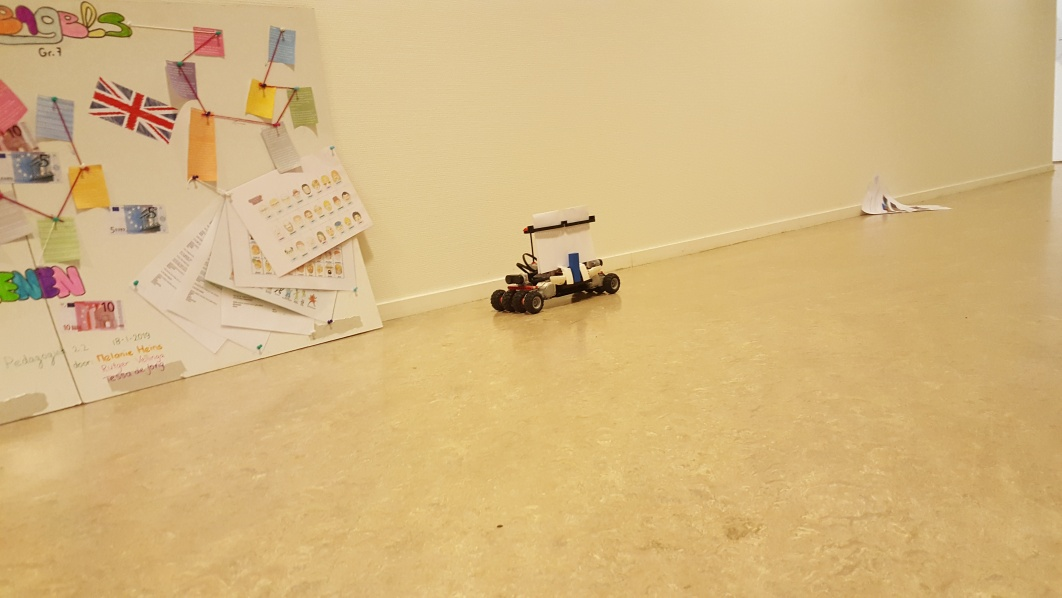car: (490, 206, 622, 314)
